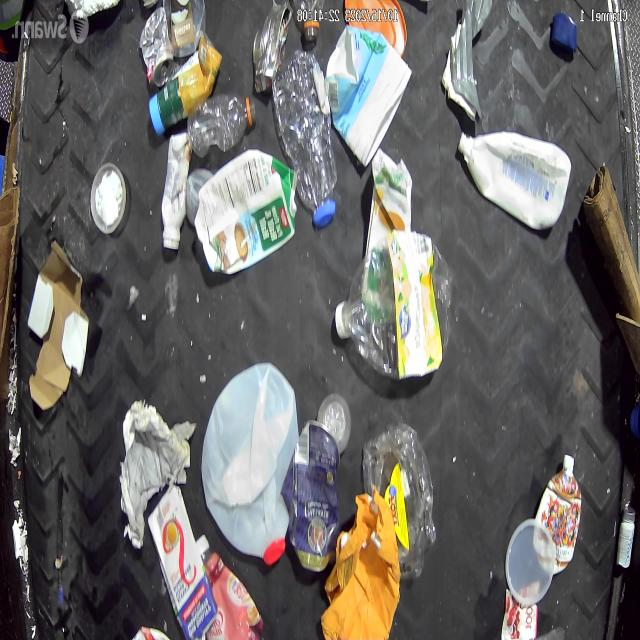can: (250, 1, 290, 93), (138, 2, 176, 88)
milk_jug: (200, 359, 296, 568), (456, 129, 572, 231)
non_white_jug: (185, 150, 298, 276)
plastic_bottle: (333, 231, 448, 382), (361, 422, 437, 579), (274, 52, 338, 222), (188, 92, 255, 154)
